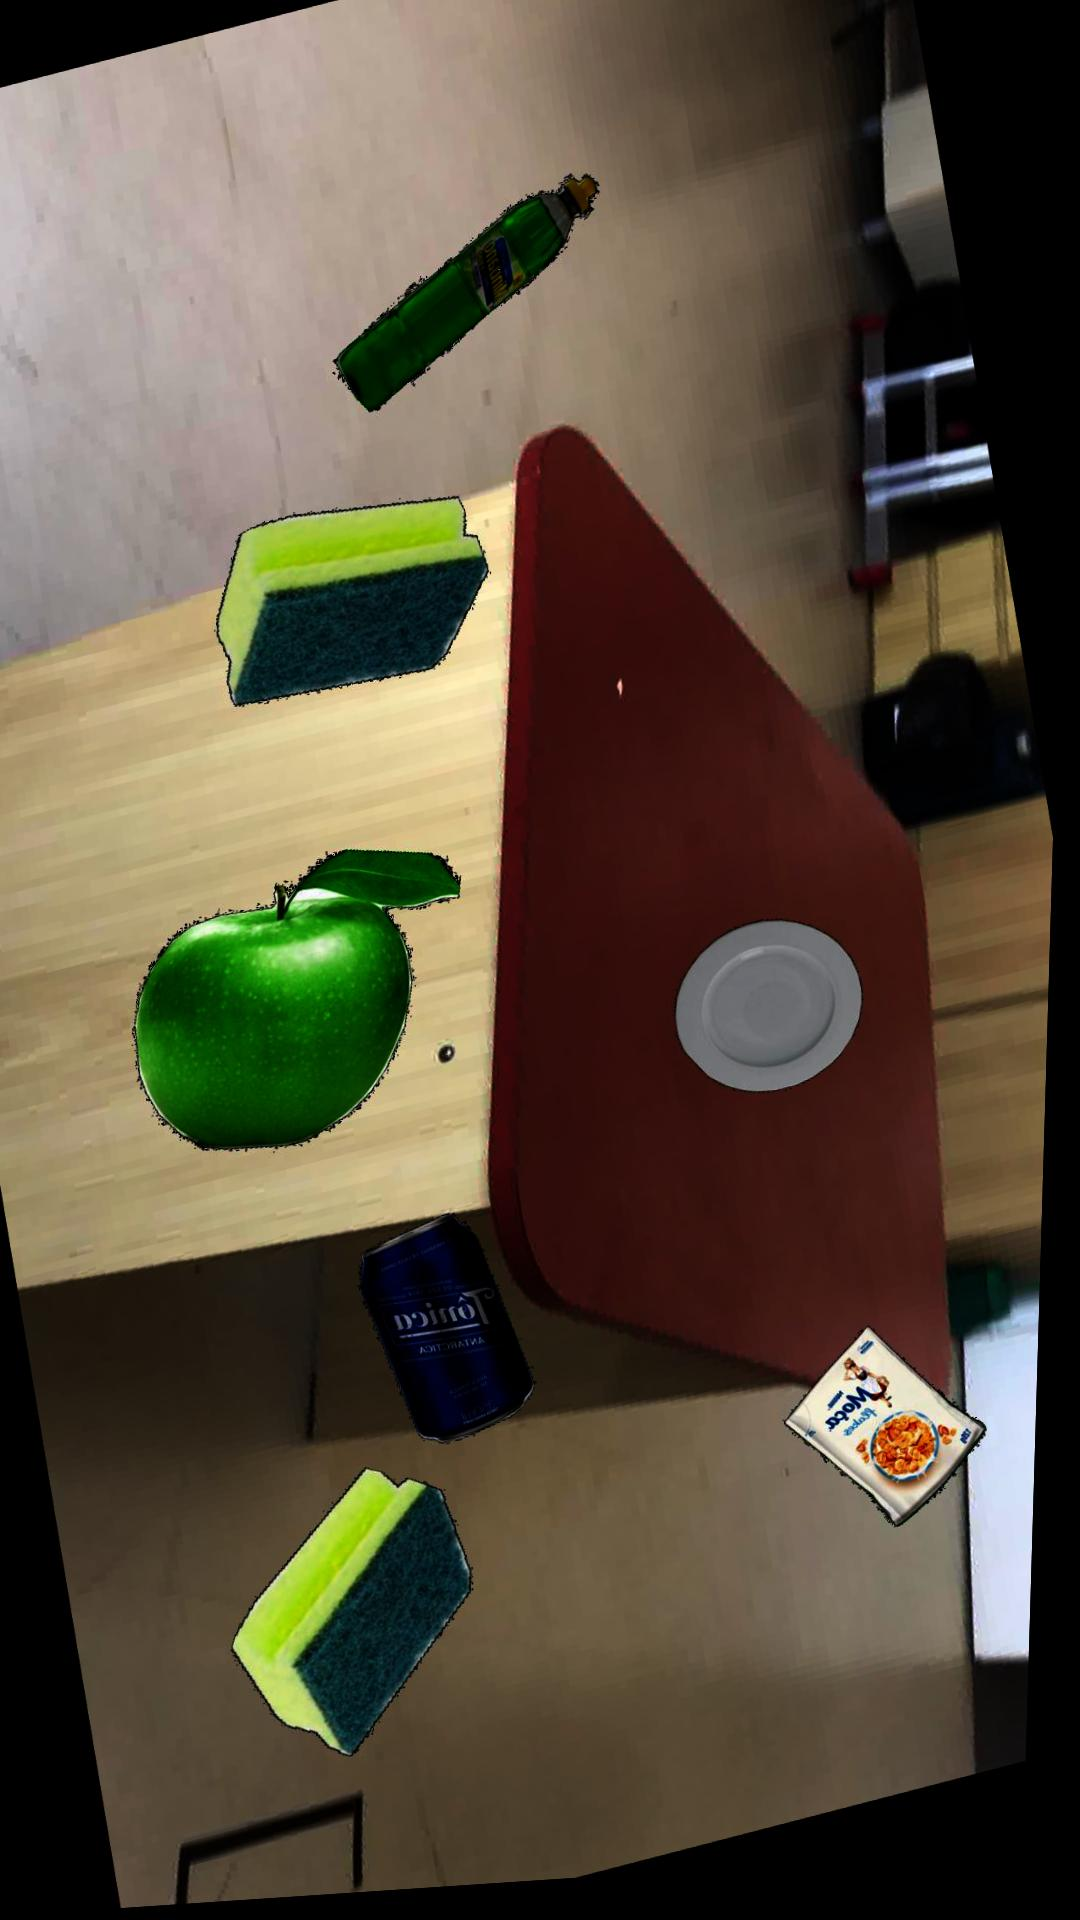cleaner: (332, 181, 599, 415)
corn flakes: (791, 1337, 993, 1538)
green apple: (137, 853, 463, 1154)
plate: (678, 928, 866, 1102)
sponge: (239, 1472, 480, 1760), (218, 501, 489, 708)
tonic: (364, 1218, 543, 1448)
